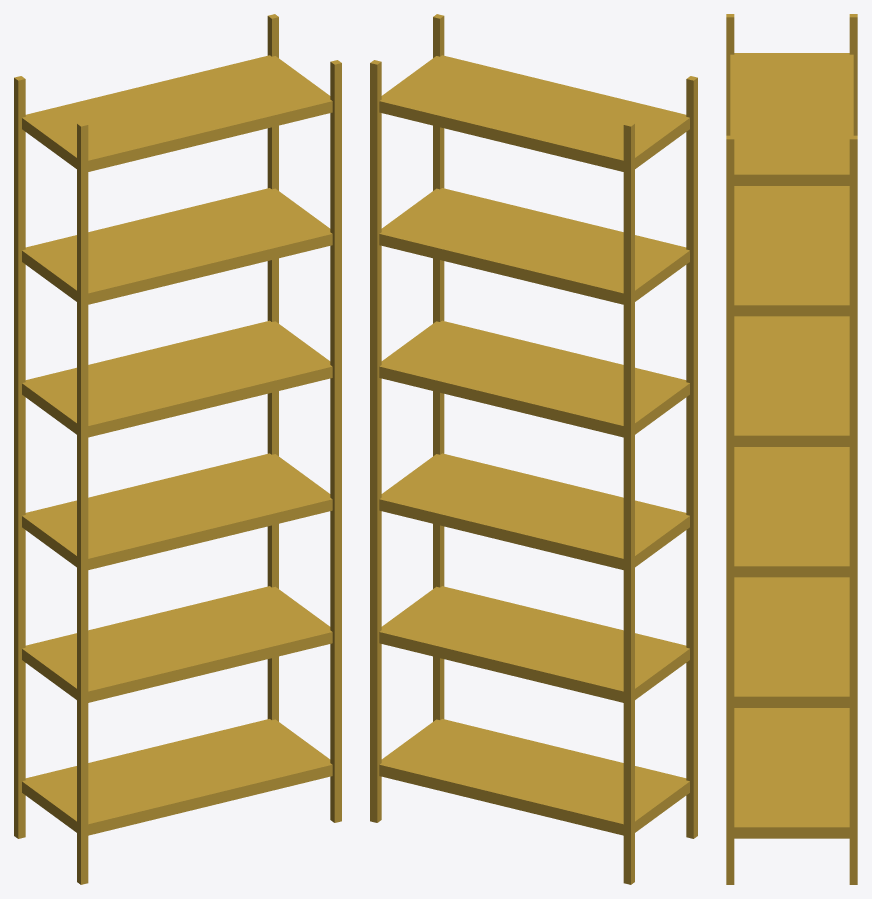
Rendered from shelfRack.fbx.
The picture shows the model from 3 angles, left to right: view 1: azimuth 30°, elevation 25°; view 2: azimuth 150°, elevation 25°; view 3: azimuth 270°, elevation 25°; orthographic projection.
Parts seen in each view (by area): view 1: shelfRack; view 2: shelfRack; view 3: shelfRack.
Boxes of the visible parts, x1=… form: shelfRack: x1=14, y1=14, x2=341, y2=884; shelfRack: x1=370, y1=14, x2=697, y2=884; shelfRack: x1=726, y1=14, x2=857, y2=884.
Bounding box in the file's own units: 72 × 200 × 32.
